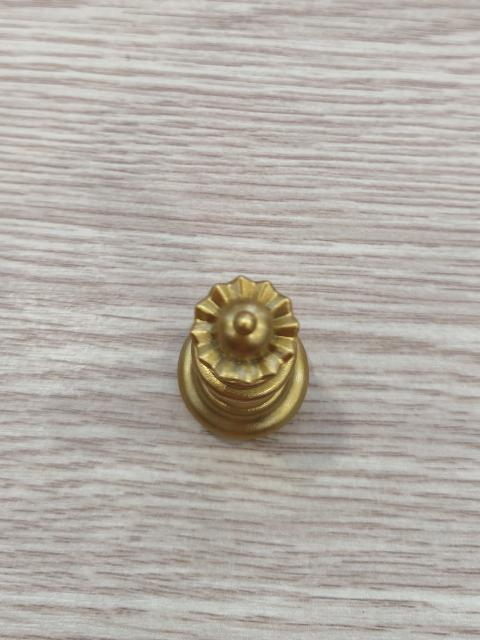black_queen: (181, 277, 309, 437)
